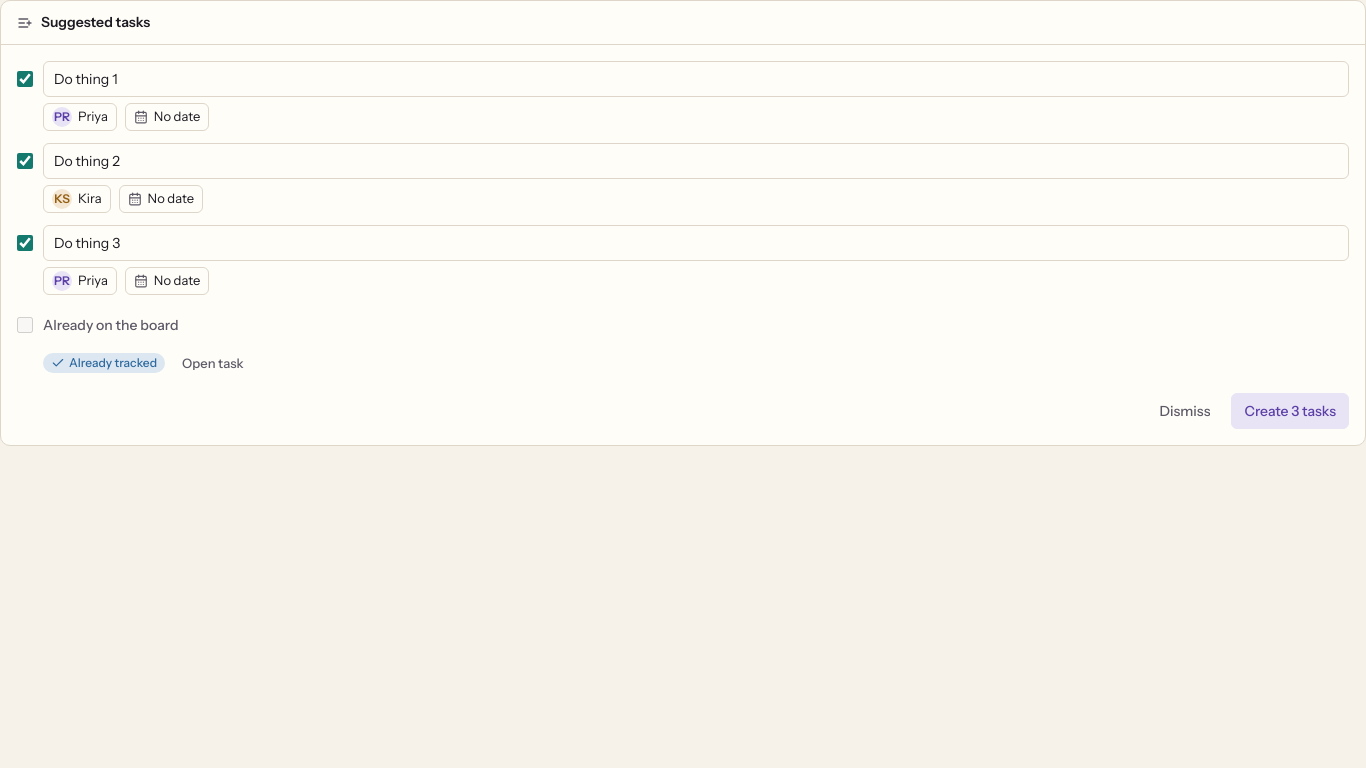
Test: SuggestedTasks › keeps the rows and does not repeat finished ones when something fails
Click the button "Create 3 tasks" at (1290, 411), box [1232, 393, 1349, 429]
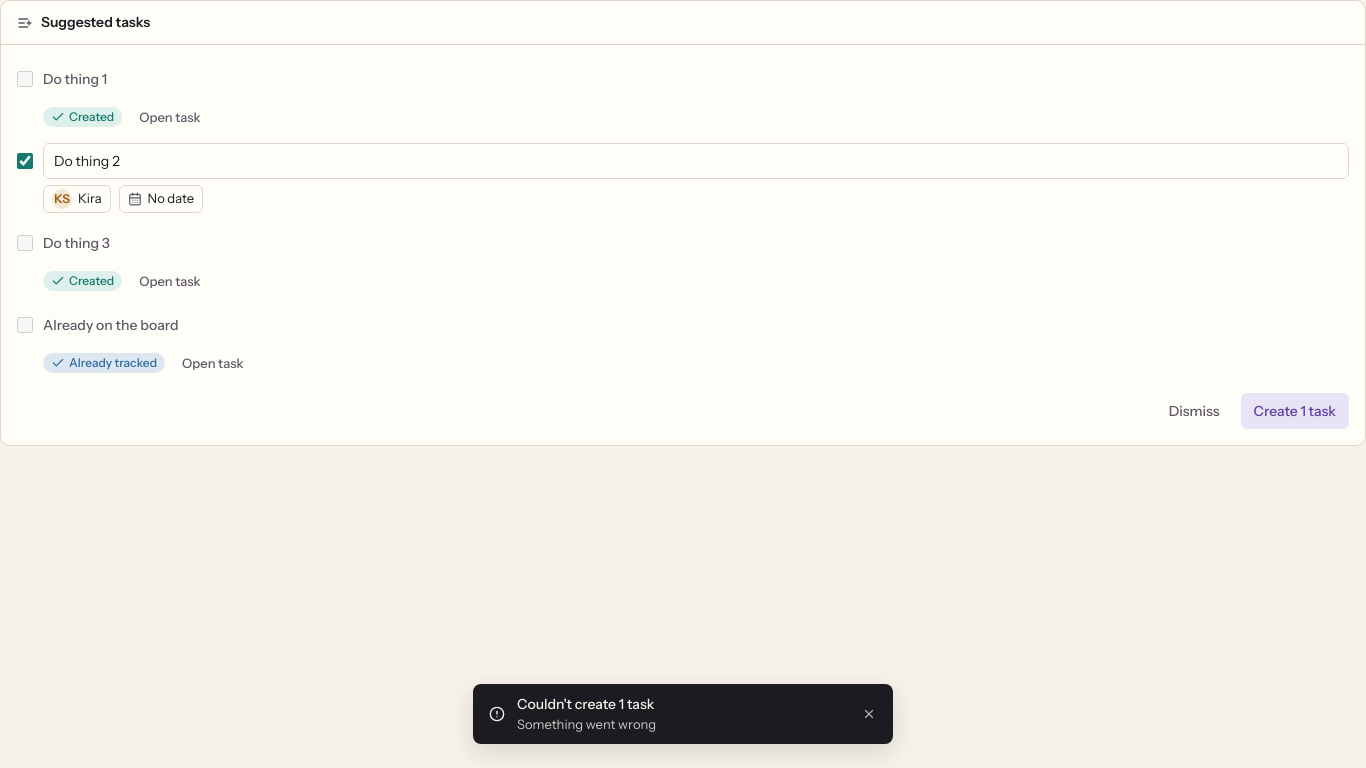
Expected: the text "Couldn't create 1 task" is shown, [517, 694, 654, 712]
Expected: the text "Something went wrong" is shown, [517, 716, 656, 732]
Expected: the text "Created" is shown 2 times, [43, 107, 122, 127]; [43, 271, 122, 291]
Click the button "Create 1 task" at (1295, 411), box [1241, 393, 1349, 429]
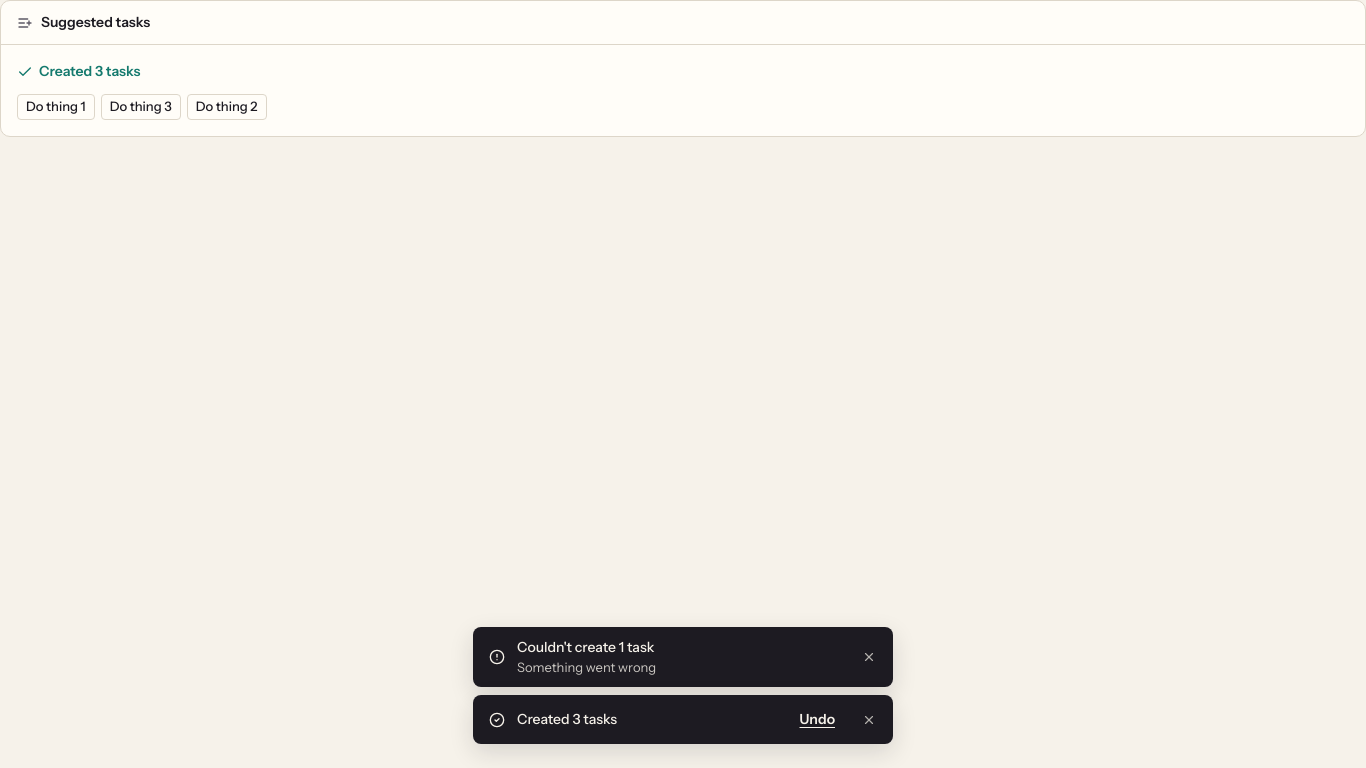
Expected: the message reads "Created 3 tasks", [39, 62, 140, 80]
